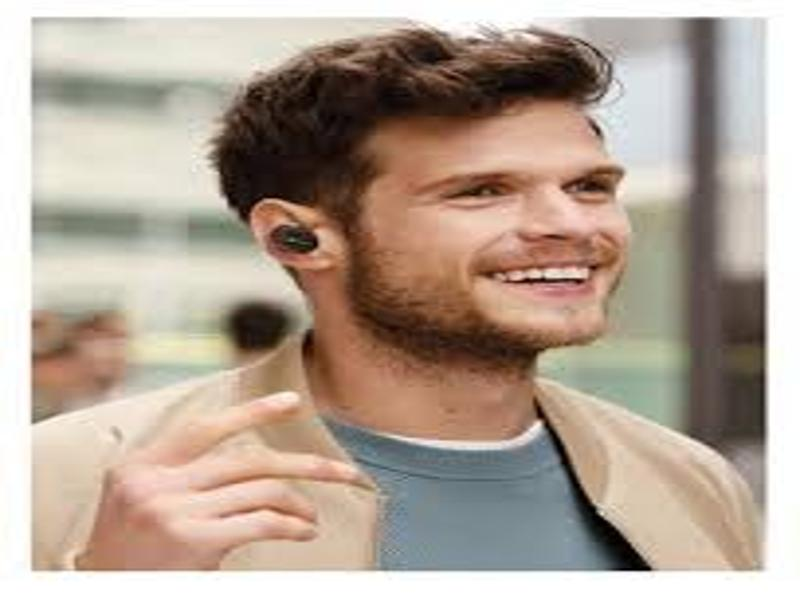headphone: (271, 224, 319, 256)
